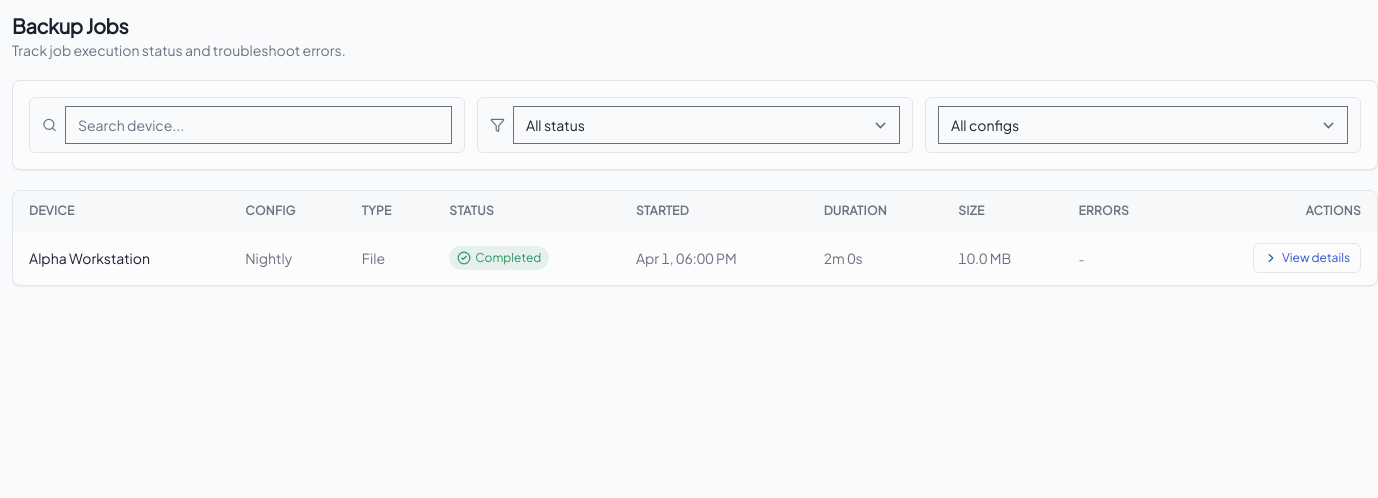
Scenario: BackupJobList › renders nothing new for a completed job with null referencedSize (legacy/full run)
expect the text "Alpha Workstation" is shown: met, box [13,231,229,285]
Step 1. Click the button with aria-label "View details for Alpha Workstation backup" → x=1307, y=258, box [1253,243,1361,273]
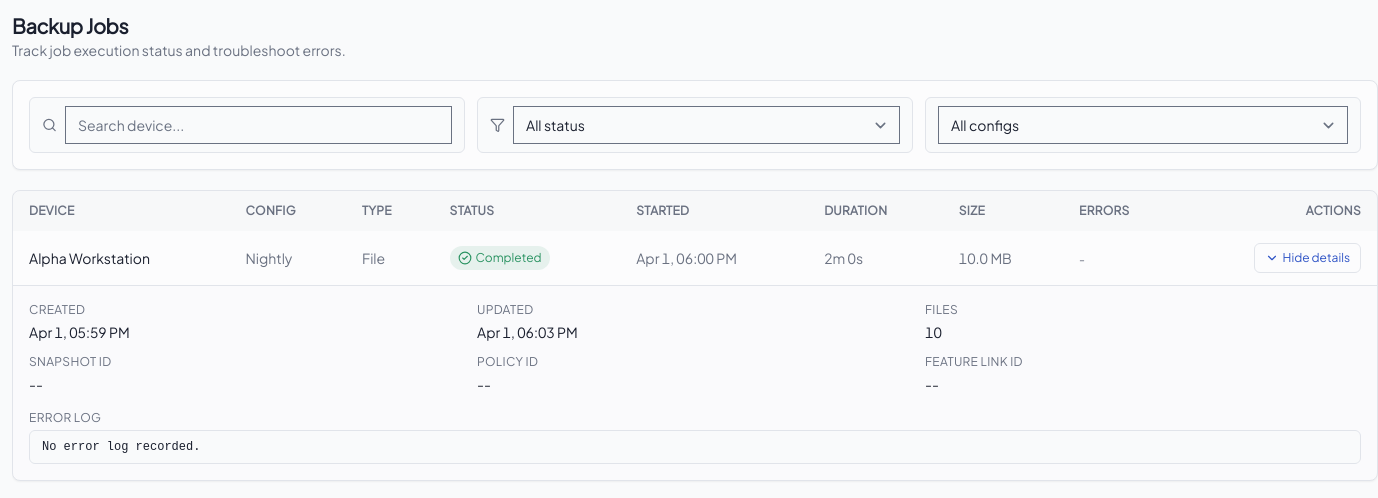
expect the text "No error log recorded." is shown: met, box [29,430,1361,464]
